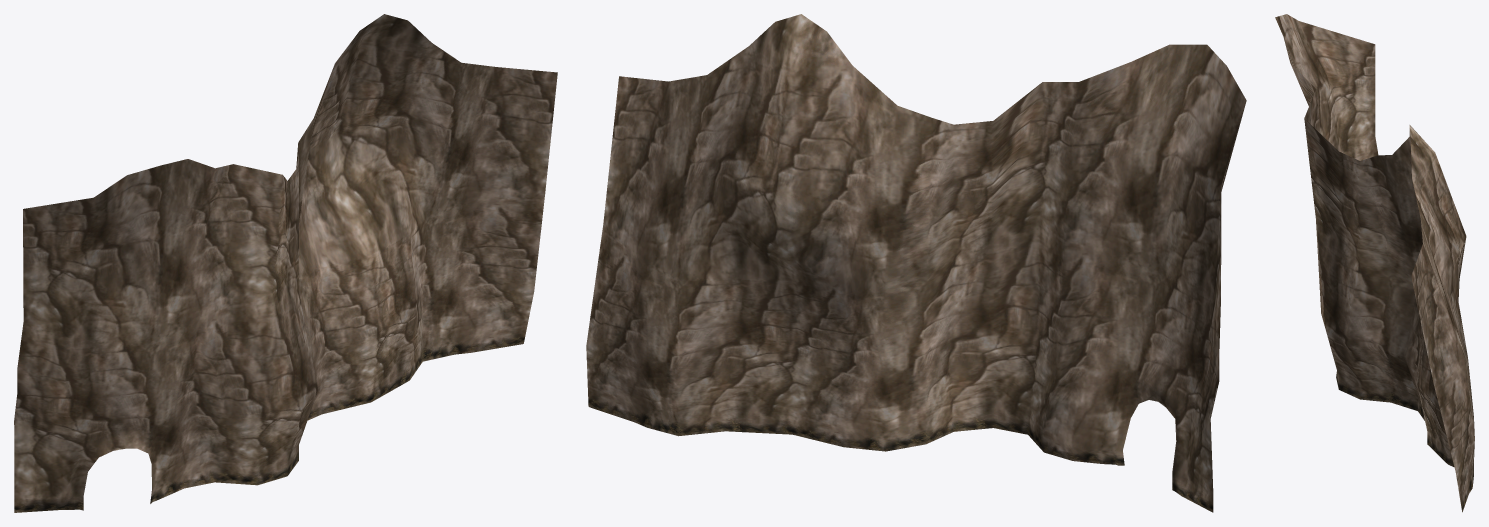
Rendered from OVERHILL_A_01_OBJECT142.fbx.
3 views of the same model, side by side, from view 1: azimuth 30°, elevation 25°; view 2: azimuth 150°, elevation 25°; view 3: azimuth 270°, elevation 25° (orthographic). The views are drawn at different scales.
Parts seen in each view (by area): view 1: OVERHILL_A_01_OBJECT142; view 2: OVERHILL_A_01_OBJECT142; view 3: OVERHILL_A_01_OBJECT142.
Boxes of the visible parts, <box> form: OVERHILL_A_01_OBJECT142: <box>14,14,557,512</box>; OVERHILL_A_01_OBJECT142: <box>586,14,1246,512</box>; OVERHILL_A_01_OBJECT142: <box>1275,14,1474,512</box>.
Bounding box in the file's own units: 192594 × 129492 × 73403.
Materials: 2 (2 with a texture image).
